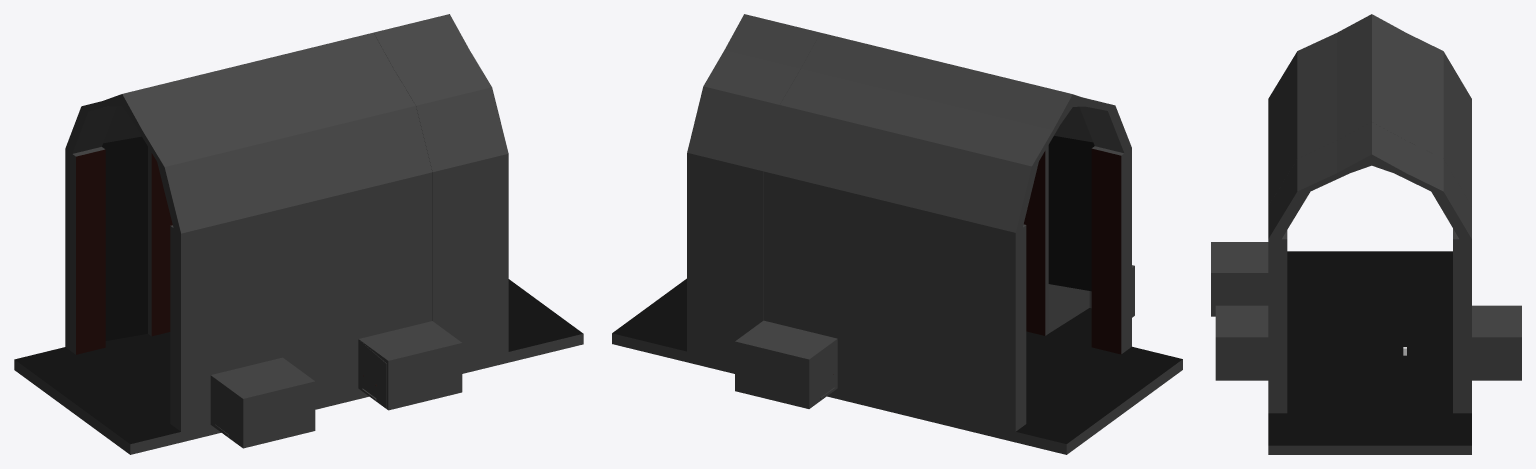
The picture shows the model from 3 angles, left to right: view 1: azimuth 30°, elevation 25°; view 2: azimuth 150°, elevation 25°; view 3: azimuth 270°, elevation 25°; orthographic projection. The views are drawn at different scales.
Parts seen in each view (by area): view 1: Extructura; view 2: Extructura; view 3: Extructura.
Part boxes in pixels (<box>): Extructura: <box>14,14,583,454</box>; Extructura: <box>612,14,1182,454</box>; Extructura: <box>1211,14,1521,454</box>.
Size of the model in its own units: 24202 by 15592 by 16366.
